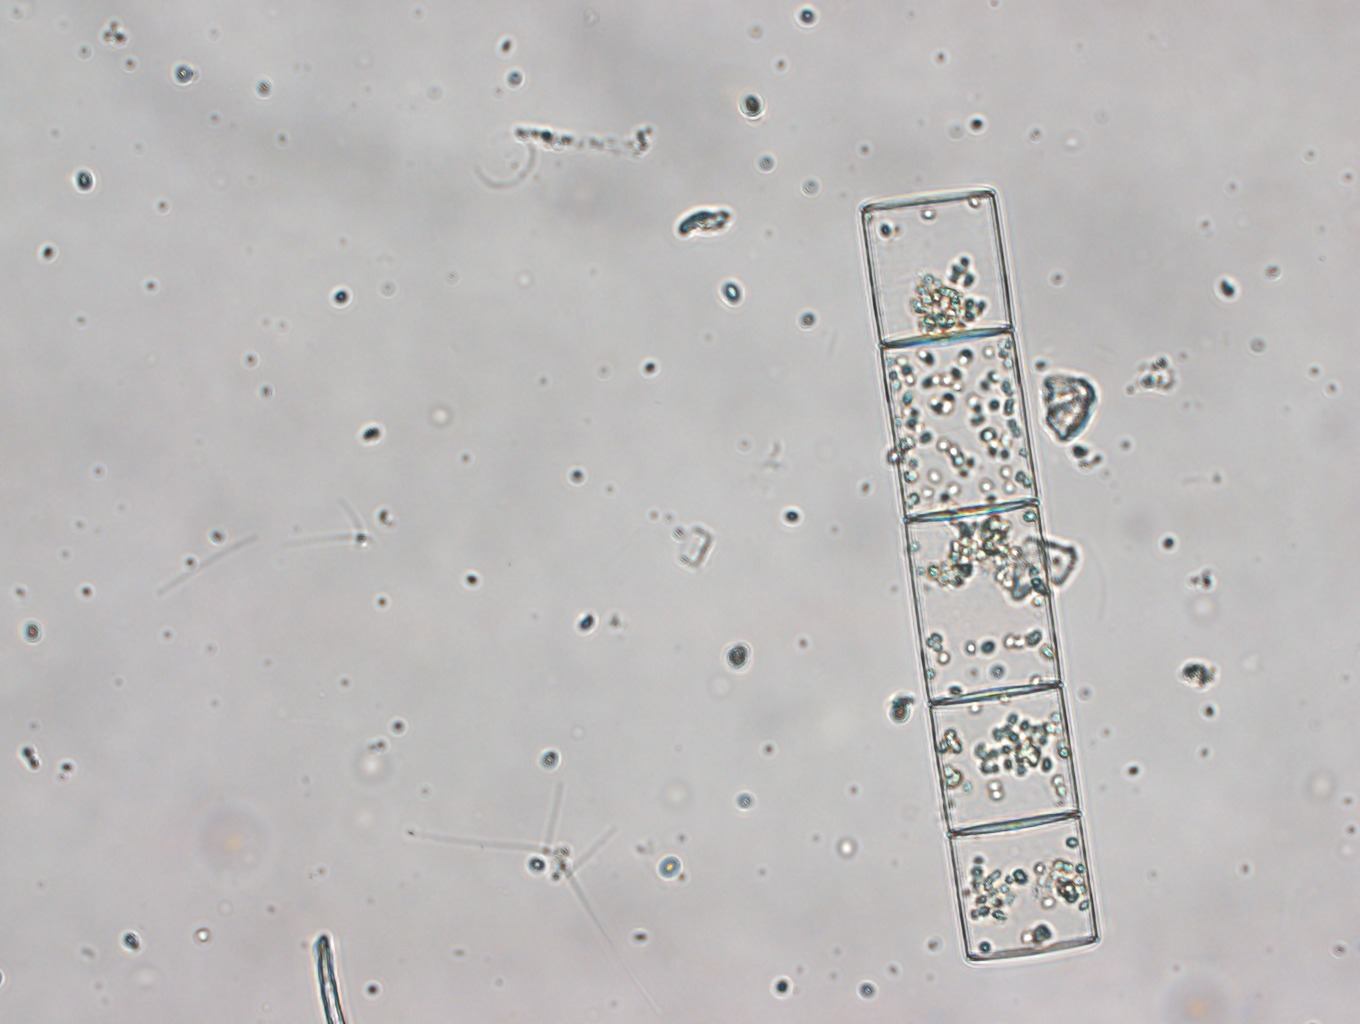guinardia flaccida: (859, 186, 1097, 962)
